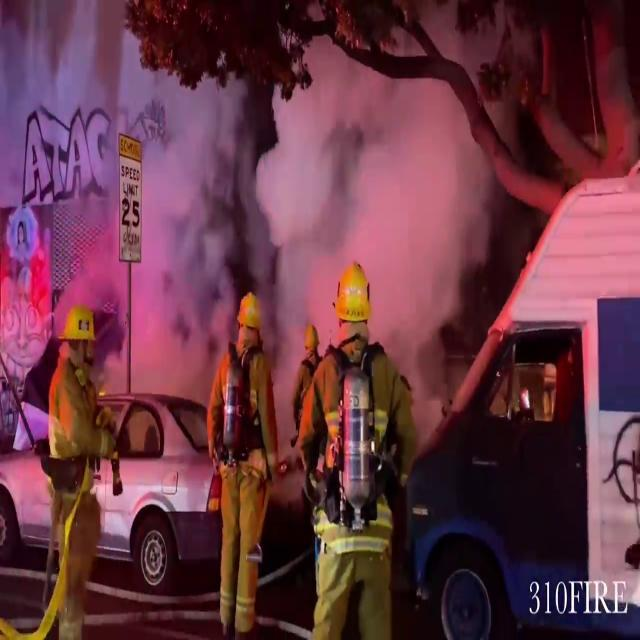Smoke: (138, 47, 490, 423)
